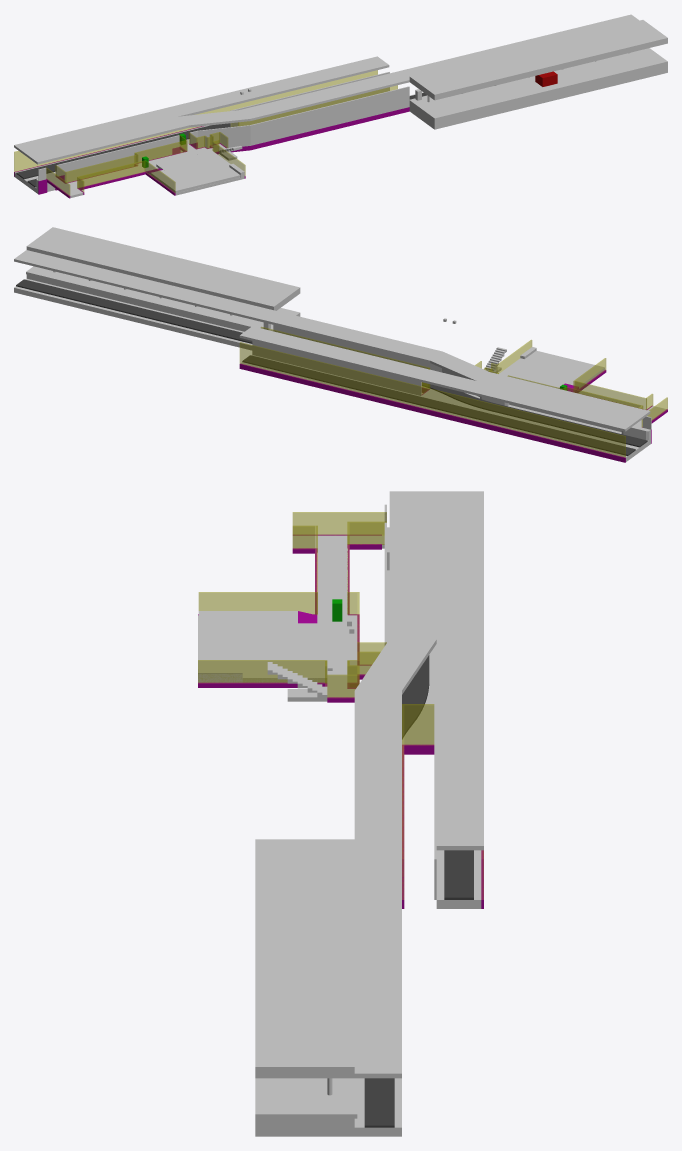
The model's file is chemistory-level-2.obj.
3 renders of one model, top to bottom at view 1: azimuth 30°, elevation 25°; view 2: azimuth 150°, elevation 25°; view 3: azimuth 270°, elevation 25°, orthographic. The views are drawn at different scales.
Parts seen in each view (by area): view 1: Cube.101_Cube.115, Cube.097_Cube.110, ID=SUBWAY1.001_Cube.121, ID=SUBWAY2.001_Cube.117, Cube.087_Cube.099, ID=SUBWAY2.002_Cube.119, Cube.043_Cube.050, Cube.018, Cube.093_Cube.105, Cube.095_Cube.107, Cube.085_Cube.097, Cube.081_Cube.093 (+13 smaller); view 2: Cube.093_Cube.105, Cube.101_Cube.115, ID=SUBWAY2.001_Cube.117, ID=SUBWAY1.001_Cube.121, Cube.081_Cube.093, Cube.097_Cube.110, Cube.095_Cube.107, Cube.094_Cube.106, Cube.096_Cube.109, Cube.099_Cube.112, ID=SUBWAY2.002_Cube.119, Cube.018 (+13 smaller); view 3: Cube.101_Cube.115, ID=SUBWAY2.001_Cube.117, ID=SUBWAY1.001_Cube.121, ID=SUBWAY2.002_Cube.119, Cube.018, Cube.097_Cube.110, Cube.051_Cube.063, ID=SUBWAY2.003_Cube.118, Cube.008_Cube.040, Cube.046_Cube.056, Cube, Cube.007 (+8 smaller).
Boxes of the visible parts, x1=… form: Cube.101_Cube.115: x1=409, y1=20, x2=667, y2=100; Cube.097_Cube.110: x1=409, y1=48, x2=667, y2=129; ID=SUBWAY1.001_Cube.121: x1=14, y1=56, x2=389, y2=155; ID=SUBWAY2.001_Cube.117: x1=239, y1=14, x2=639, y2=120; Cube.087_Cube.099: x1=250, y1=86, x2=409, y2=145; ID=SUBWAY2.002_Cube.119: x1=25, y1=116, x2=189, y2=164; Cube.043_Cube.050: x1=64, y1=137, x2=172, y2=182; Cube.018: x1=159, y1=152, x2=240, y2=189; Cube.093_Cube.105: x1=14, y1=70, x2=377, y2=171; Cube.095_Cube.107: x1=230, y1=72, x2=389, y2=127; Cube.085_Cube.097: x1=198, y1=125, x2=250, y2=148; Cube.081_Cube.093: x1=16, y1=123, x2=229, y2=179; Cube.093_Cube.105: x1=239, y1=342, x2=625, y2=457; Cube.101_Cube.115: x1=26, y1=227, x2=300, y2=310; ID=SUBWAY2.001_Cube.117: x1=14, y1=250, x2=442, y2=362; ID=SUBWAY1.001_Cube.121: x1=239, y1=326, x2=637, y2=431; Cube.081_Cube.093: x1=242, y1=355, x2=635, y2=455; Cube.097_Cube.110: x1=26, y1=266, x2=300, y2=331; Cube.095_Cube.107: x1=252, y1=341, x2=421, y2=395; Cube.094_Cube.106: x1=239, y1=363, x2=625, y2=462; Cube.096_Cube.109: x1=14, y1=278, x2=252, y2=350; Cube.099_Cube.112: x1=16, y1=279, x2=252, y2=343; ID=SUBWAY2.002_Cube.119: x1=477, y1=372, x2=650, y2=422; Cube.018: x1=501, y1=350, x2=590, y2=386; Cube.101_Cube.115: x1=255, y1=839, x2=354, y2=1078; ID=SUBWAY2.001_Cube.117: x1=354, y1=690, x2=401, y2=1078; ID=SUBWAY1.001_Cube.121: x1=436, y1=491, x2=483, y2=850; ID=SUBWAY2.002_Cube.119: x1=389, y1=491, x2=436, y2=639; Cube.018: x1=198, y1=623, x2=317, y2=682; Cube.097_Cube.110: x1=255, y1=1078, x2=354, y2=1136; Cube.051_Cube.063: x1=198, y1=660, x2=327, y2=683; ID=SUBWAY2.003_Cube.118: x1=355, y1=639, x2=436, y2=694; Cube.008_Cube.040: x1=198, y1=592, x2=317, y2=614; Cube.046_Cube.056: x1=292, y1=512, x2=386, y2=535; Cube: x1=198, y1=615, x2=357, y2=682; Cube.007: x1=318, y1=548, x2=347, y2=615.
Bounding box in the file's own units: 278 × 27.55 × 57.56.
